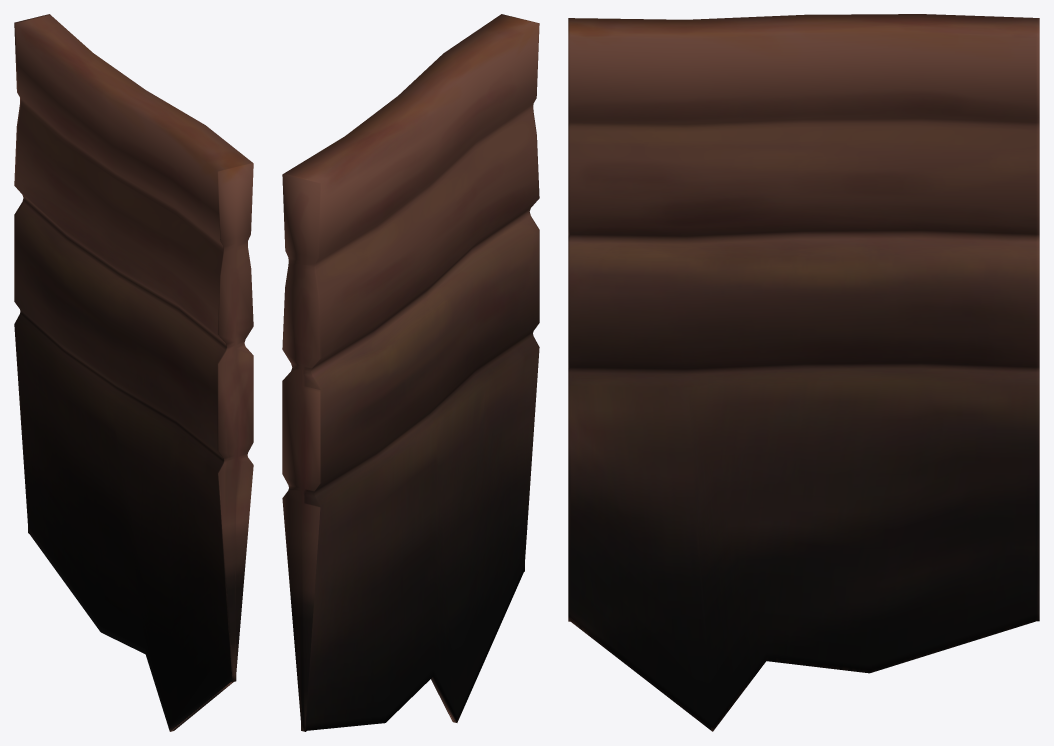
Rendered from WallHole_1.fbx.
The picture shows the model from 3 angles, left to right: view 1: azimuth 30°, elevation 25°; view 2: azimuth 150°, elevation 25°; view 3: azimuth 270°, elevation 25°; orthographic projection. The views are drawn at different scales.
Parts seen in each view (by area): view 1: Hole1; view 2: Hole1; view 3: Hole1.
Part boxes in pixels (x1=…): Hole1: x1=14, y1=14, x2=253, y2=731; Hole1: x1=282, y1=14, x2=539, y2=731; Hole1: x1=568, y1=14, x2=1039, y2=731.
Bounding box in the file's own units: 25.81 × 329 × 200.
Materials: 1 (1 with a texture image).
